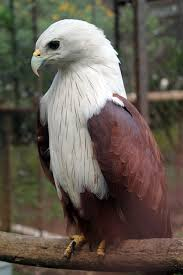Pengoyak Daging: (22, 51, 49, 79)
